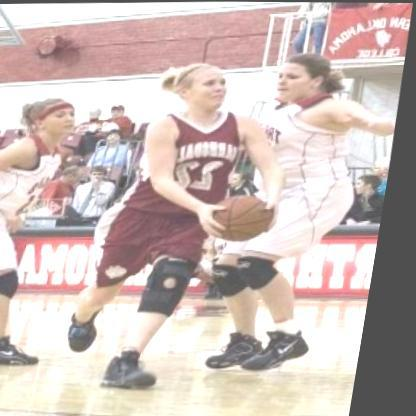basketball: (209, 189, 286, 244)
